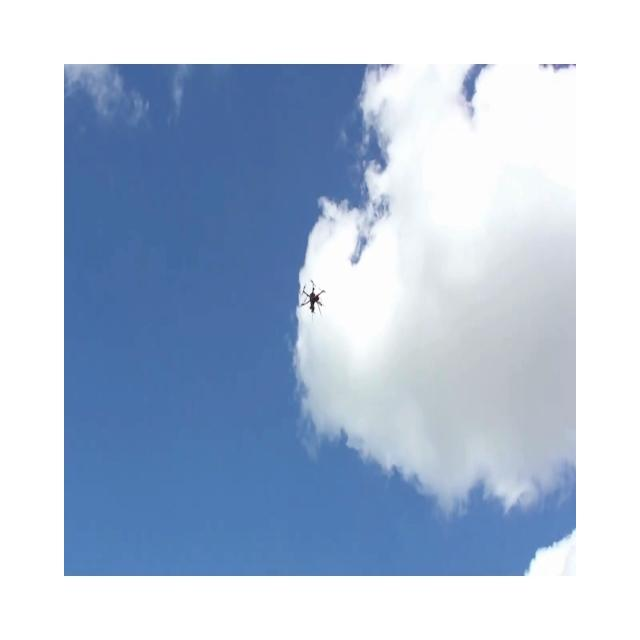drone: (300, 278, 325, 320)
